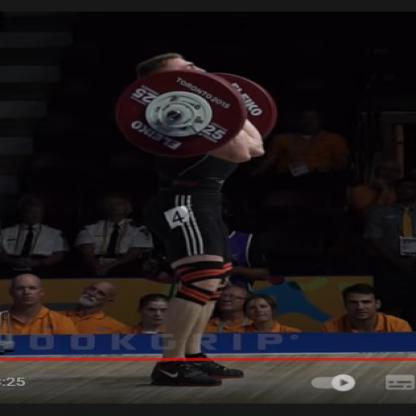Barbell: (167, 111, 187, 125)
